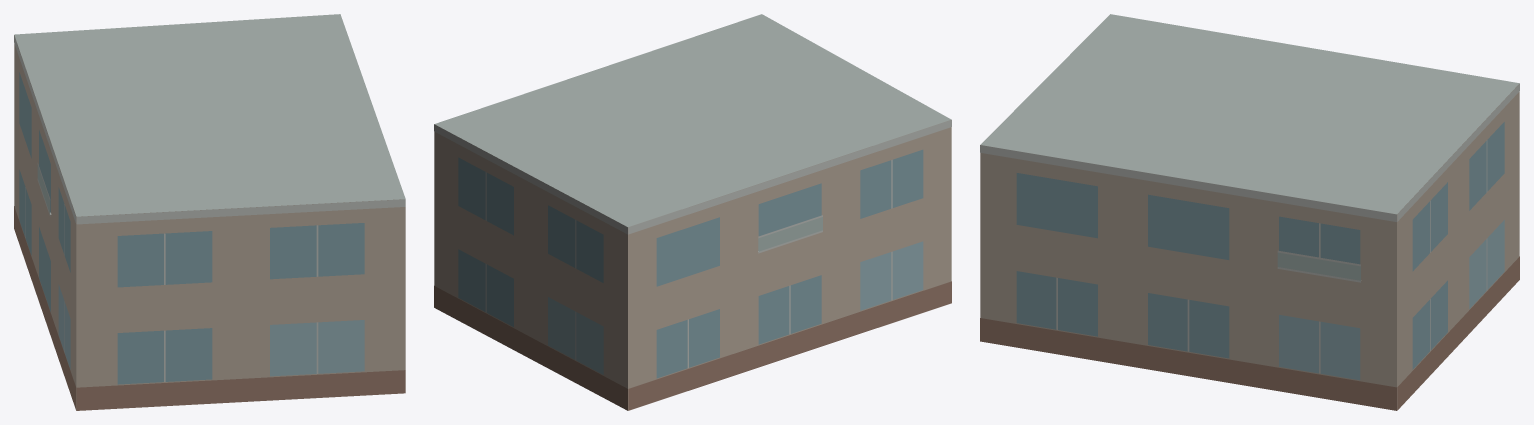
Rendered from survey-upis-32718733.glb.
3 renders of one model, left to right at view 1: azimuth 30°, elevation 25°; view 2: azimuth 150°, elevation 25°; view 3: azimuth 270°, elevation 25°, orthographic. The views are drawn at different scales.
Parts seen in each view (by area): view 1: survey-upis-32718733.tmp; view 2: survey-upis-32718733.tmp; view 3: survey-upis-32718733.tmp.
Boxes of the visible parts, x1,y1,x2,y2 form: survey-upis-32718733.tmp: (14, 14, 405, 410); survey-upis-32718733.tmp: (434, 14, 951, 410); survey-upis-32718733.tmp: (980, 14, 1519, 410).
Bounding box in the file's own units: 13.35 × 6.1 × 15.19.
